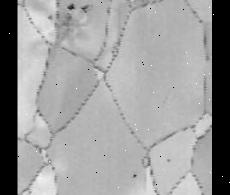good_void: (80, 2, 90, 12), (66, 2, 75, 10), (164, 156, 173, 162), (47, 12, 53, 20), (132, 171, 138, 177)
